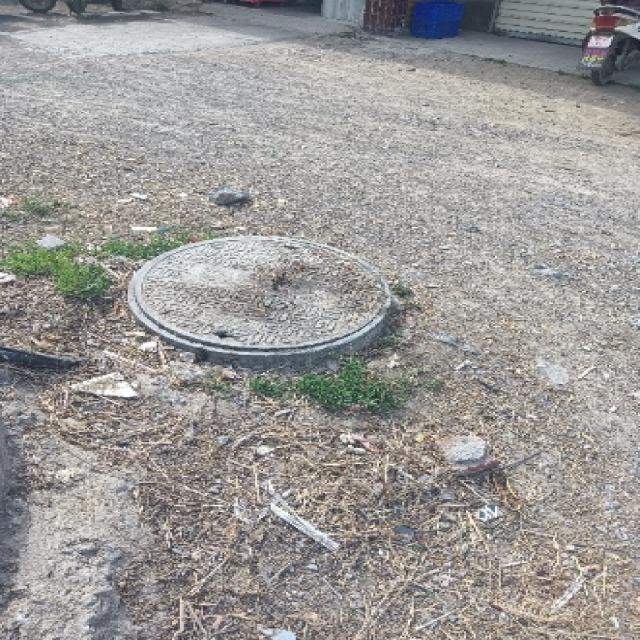Good: (117, 227, 411, 378)
